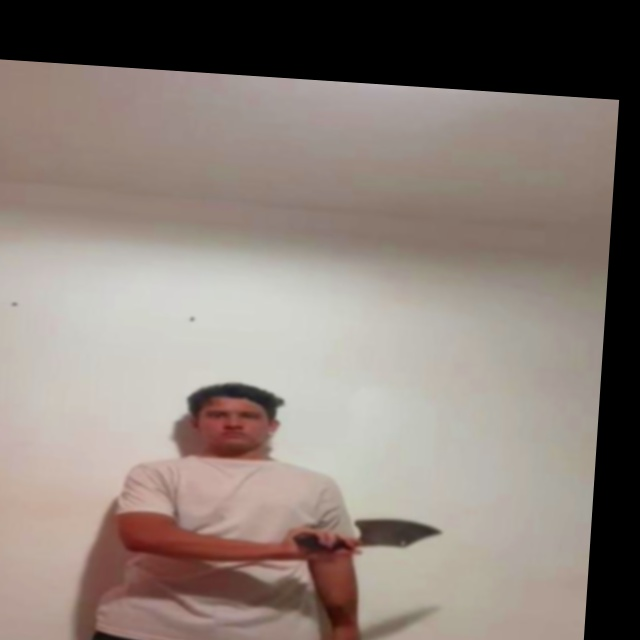Sharp-Object: (347, 516, 442, 550)
